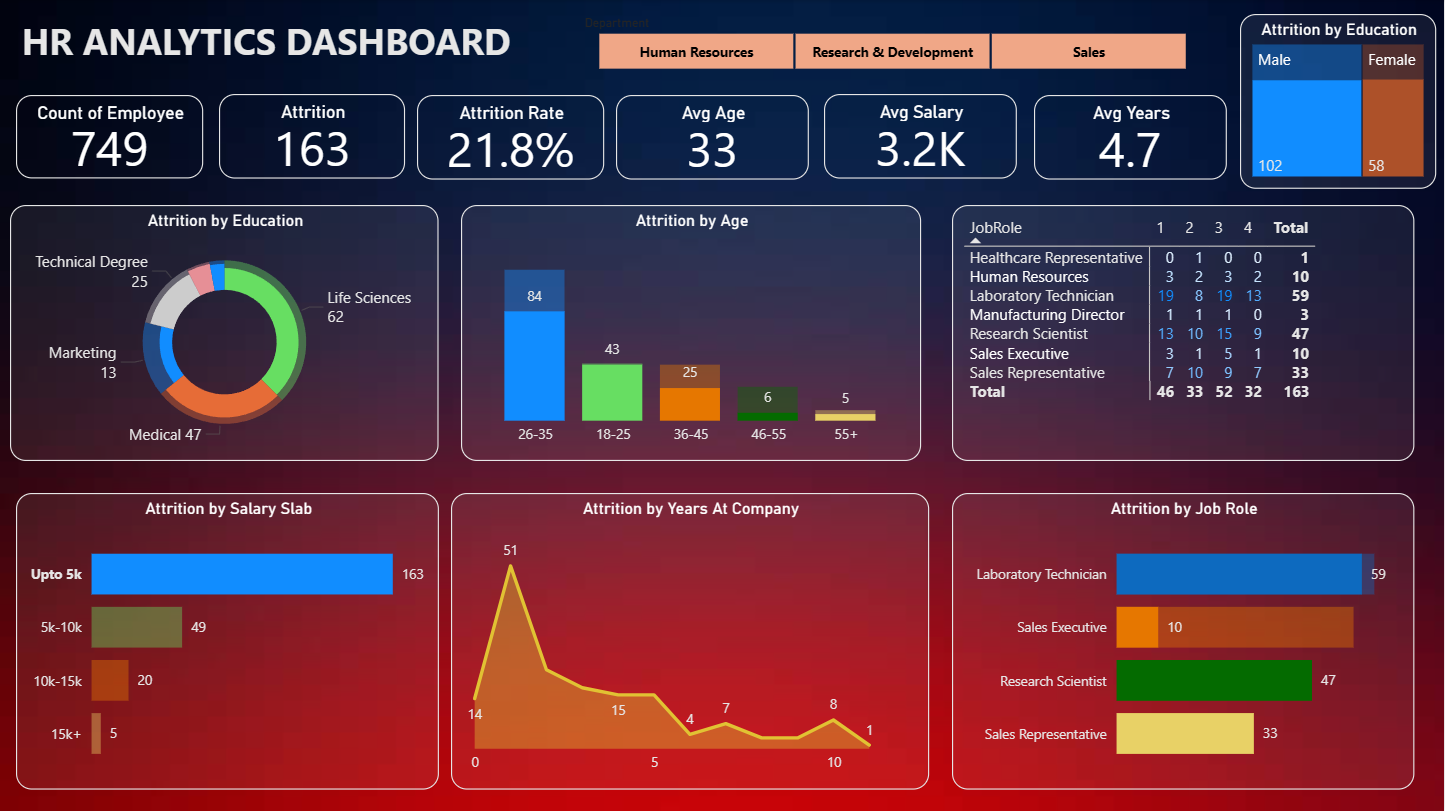

This screenshot's page, from the dashboard's own definition file:
{"tool":"powerbi","page":{"name":"HR Dashboard","canvas":[1280,720],"ordinal":0},"visuals":[{"type":"card","title":"Count of Employee","fields":{"Values":["CountNonNull(HR_Analytics.EmpID)"]},"box":[13.8,84,165.9,74.1],"z":0},{"type":"card","title":"Avg Age","fields":{"Values":["Avg(HR_Analytics.Age)"]},"box":[546.2,84,170.9,75.1],"z":1000},{"type":"card","title":"Attrition Rate","fields":{"Values":["HR_Analytics.AttritionRate"]},"box":[369.4,84,165.9,75.1],"z":2000},{"type":"card","title":"Attrition","fields":{"Values":["Sum(HR_Analytics.AttritionCount)"]},"box":[194.6,83,164.9,75.1],"z":3000},{"type":"card","title":"Avg Salary","fields":{"Values":["Avg(HR_Analytics.MonthlyIncome)"]},"box":[730.9,83,170.9,75.1],"z":4000},{"type":"card","title":"Avg Years","fields":{"Values":["Avg(HR_Analytics.YearsAtCompany)"]},"box":[916.5,84,170.9,75.1],"z":5000},{"type":"donutChart","title":"Attrition by  Education","fields":{"Category":["HR_Analytics.EducationField"],"Y":["Sum(HR_Analytics.AttritionCount)"]},"box":[8.9,181.7,380.2,227.2],"z":6000},{"type":"columnChart","title":"Attrition by Age","fields":{"Category":["HR_Analytics.AgeGroup"],"Y":["Sum(HR_Analytics.AttritionCount)"]},"box":[408.9,181.7,407.9,227.2],"z":7000},{"type":"pivotTable","fields":{"Rows":["HR_Analytics.JobRole"],"Columns":["HR_Analytics.JobSatisfaction"],"Values":["Sum(HR_Analytics.AttritionCount)"]},"box":[844.4,181.7,409.9,227.2],"z":8000},{"type":"barChart","title":"Attrition by Salary Slab","fields":{"Category":["HR_Analytics.SalarySlab"],"Y":["Sum(HR_Analytics.AttritionCount)"]},"box":[13.8,437.5,375.3,262.7],"z":9000},{"type":"barChart","title":"Attrition by Job Role","fields":{"Category":["HR_Analytics.JobRole"],"Y":["Sum(HR_Analytics.AttritionCount)"]},"box":[844.4,437.5,409.9,262.7],"z":10000},{"type":"areaChart","title":"Attrition by Years At Company","fields":{"Category":["HR_Analytics.YearsAtCompany"],"Y":["Sum(HR_Analytics.AttritionCount)"]},"box":[400,437.5,423.7,262.7],"z":11000},{"type":"treemap","title":"Attrition by Gender ","fields":{"Group":["HR_Analytics.Gender"],"Values":["Sum(HR_Analytics.AttritionCount)"]},"box":[1099.3,12.8,173.8,155.1],"z":12000},{"type":"slicer","fields":{"Values":["HR_Analytics.Department"]},"box":[497.4,8.9,590.5,59.4],"z":13000},{"type":"textbox","box":[14.2,8.9,452.2,59.4],"z":14000}]}

Visuals, with their boxes in screenshot pixels (x1, y1, x2, y2), scaled from the page's 1280x720 canvas onto the 1445x811 screenshot:
"Count of Employee" card: <region>16, 95, 203, 178</region>
"Avg Age" card: <region>617, 95, 810, 179</region>
"Attrition Rate" card: <region>417, 95, 604, 179</region>
"Attrition" card: <region>220, 93, 406, 178</region>
"Avg Salary" card: <region>825, 93, 1018, 178</region>
"Avg Years" card: <region>1035, 95, 1228, 179</region>
"Attrition by  Education" donutChart: <region>10, 205, 439, 461</region>
"Attrition by Age" columnChart: <region>462, 205, 922, 461</region>
pivotTable - HR_Analytics.JobRole x HR_Analytics.JobSatisfaction: <region>953, 205, 1416, 461</region>
"Attrition by Salary Slab" barChart: <region>16, 493, 439, 789</region>
"Attrition by Job Role" barChart: <region>953, 493, 1416, 789</region>
"Attrition by Years At Company" areaChart: <region>452, 493, 930, 789</region>
"Attrition by Gender " treemap: <region>1241, 14, 1437, 189</region>
slicer - HR_Analytics.Department: <region>562, 10, 1228, 77</region>
textbox: <region>16, 10, 527, 77</region>
